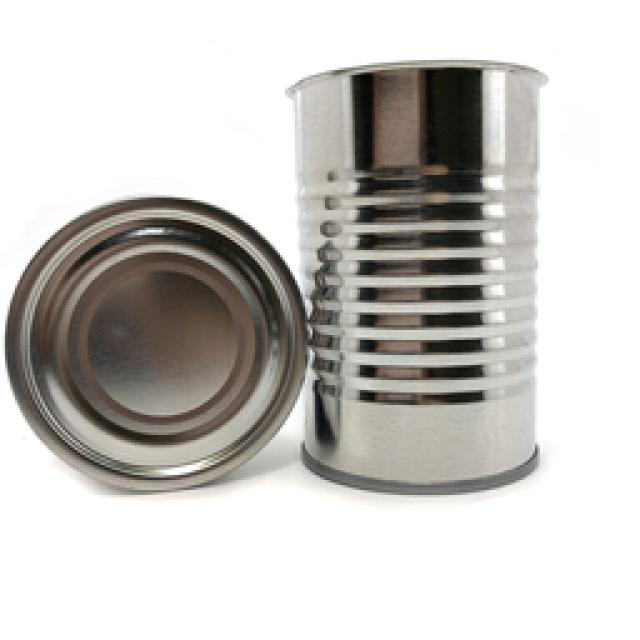alumunium: (5, 62, 542, 492)
